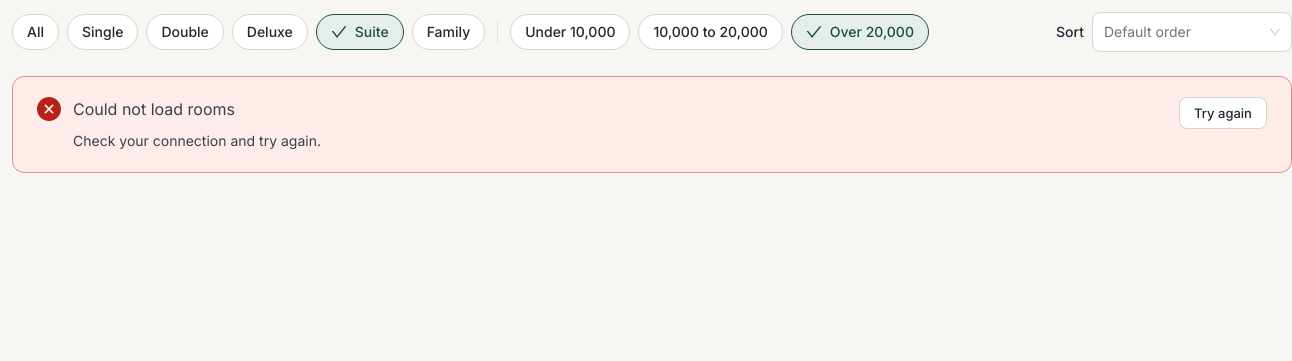
HomeRoomsSection › renders loading skeletons, Empty state with Clear filters reset, and Error Alert with Try again
This screenshot has width=1292, height=361.
Later steps or results of the test are not shown.
Expected: the message "Could not load rooms Check your connection and try again. Try again" is shown, top-left (12, 76), bottom-right (1291, 173)
Expected: the text "Could not load rooms" is shown, top-left (73, 99), bottom-right (235, 119)
Click the button "Try again" at (1223, 113), box top-left (1179, 97), bottom-right (1267, 129)
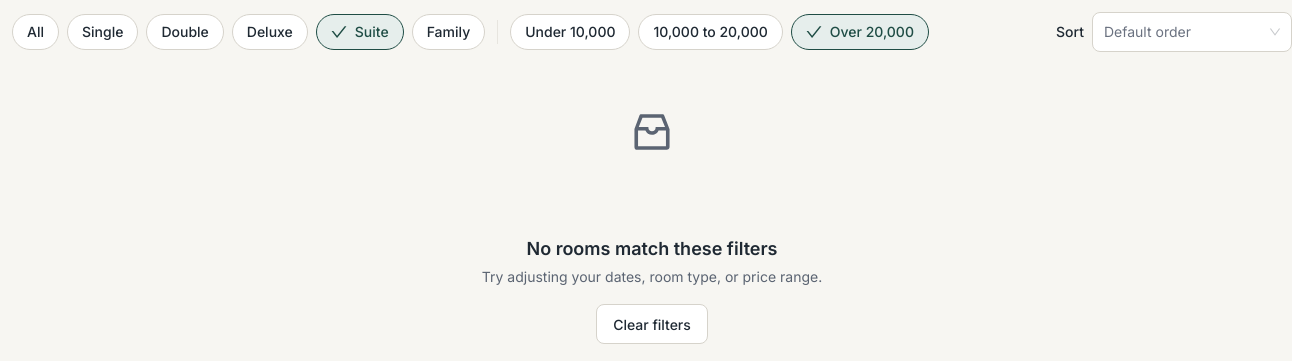
Expected: the text "No rooms match these filters" is shown, top-left (526, 238), bottom-right (778, 259)
